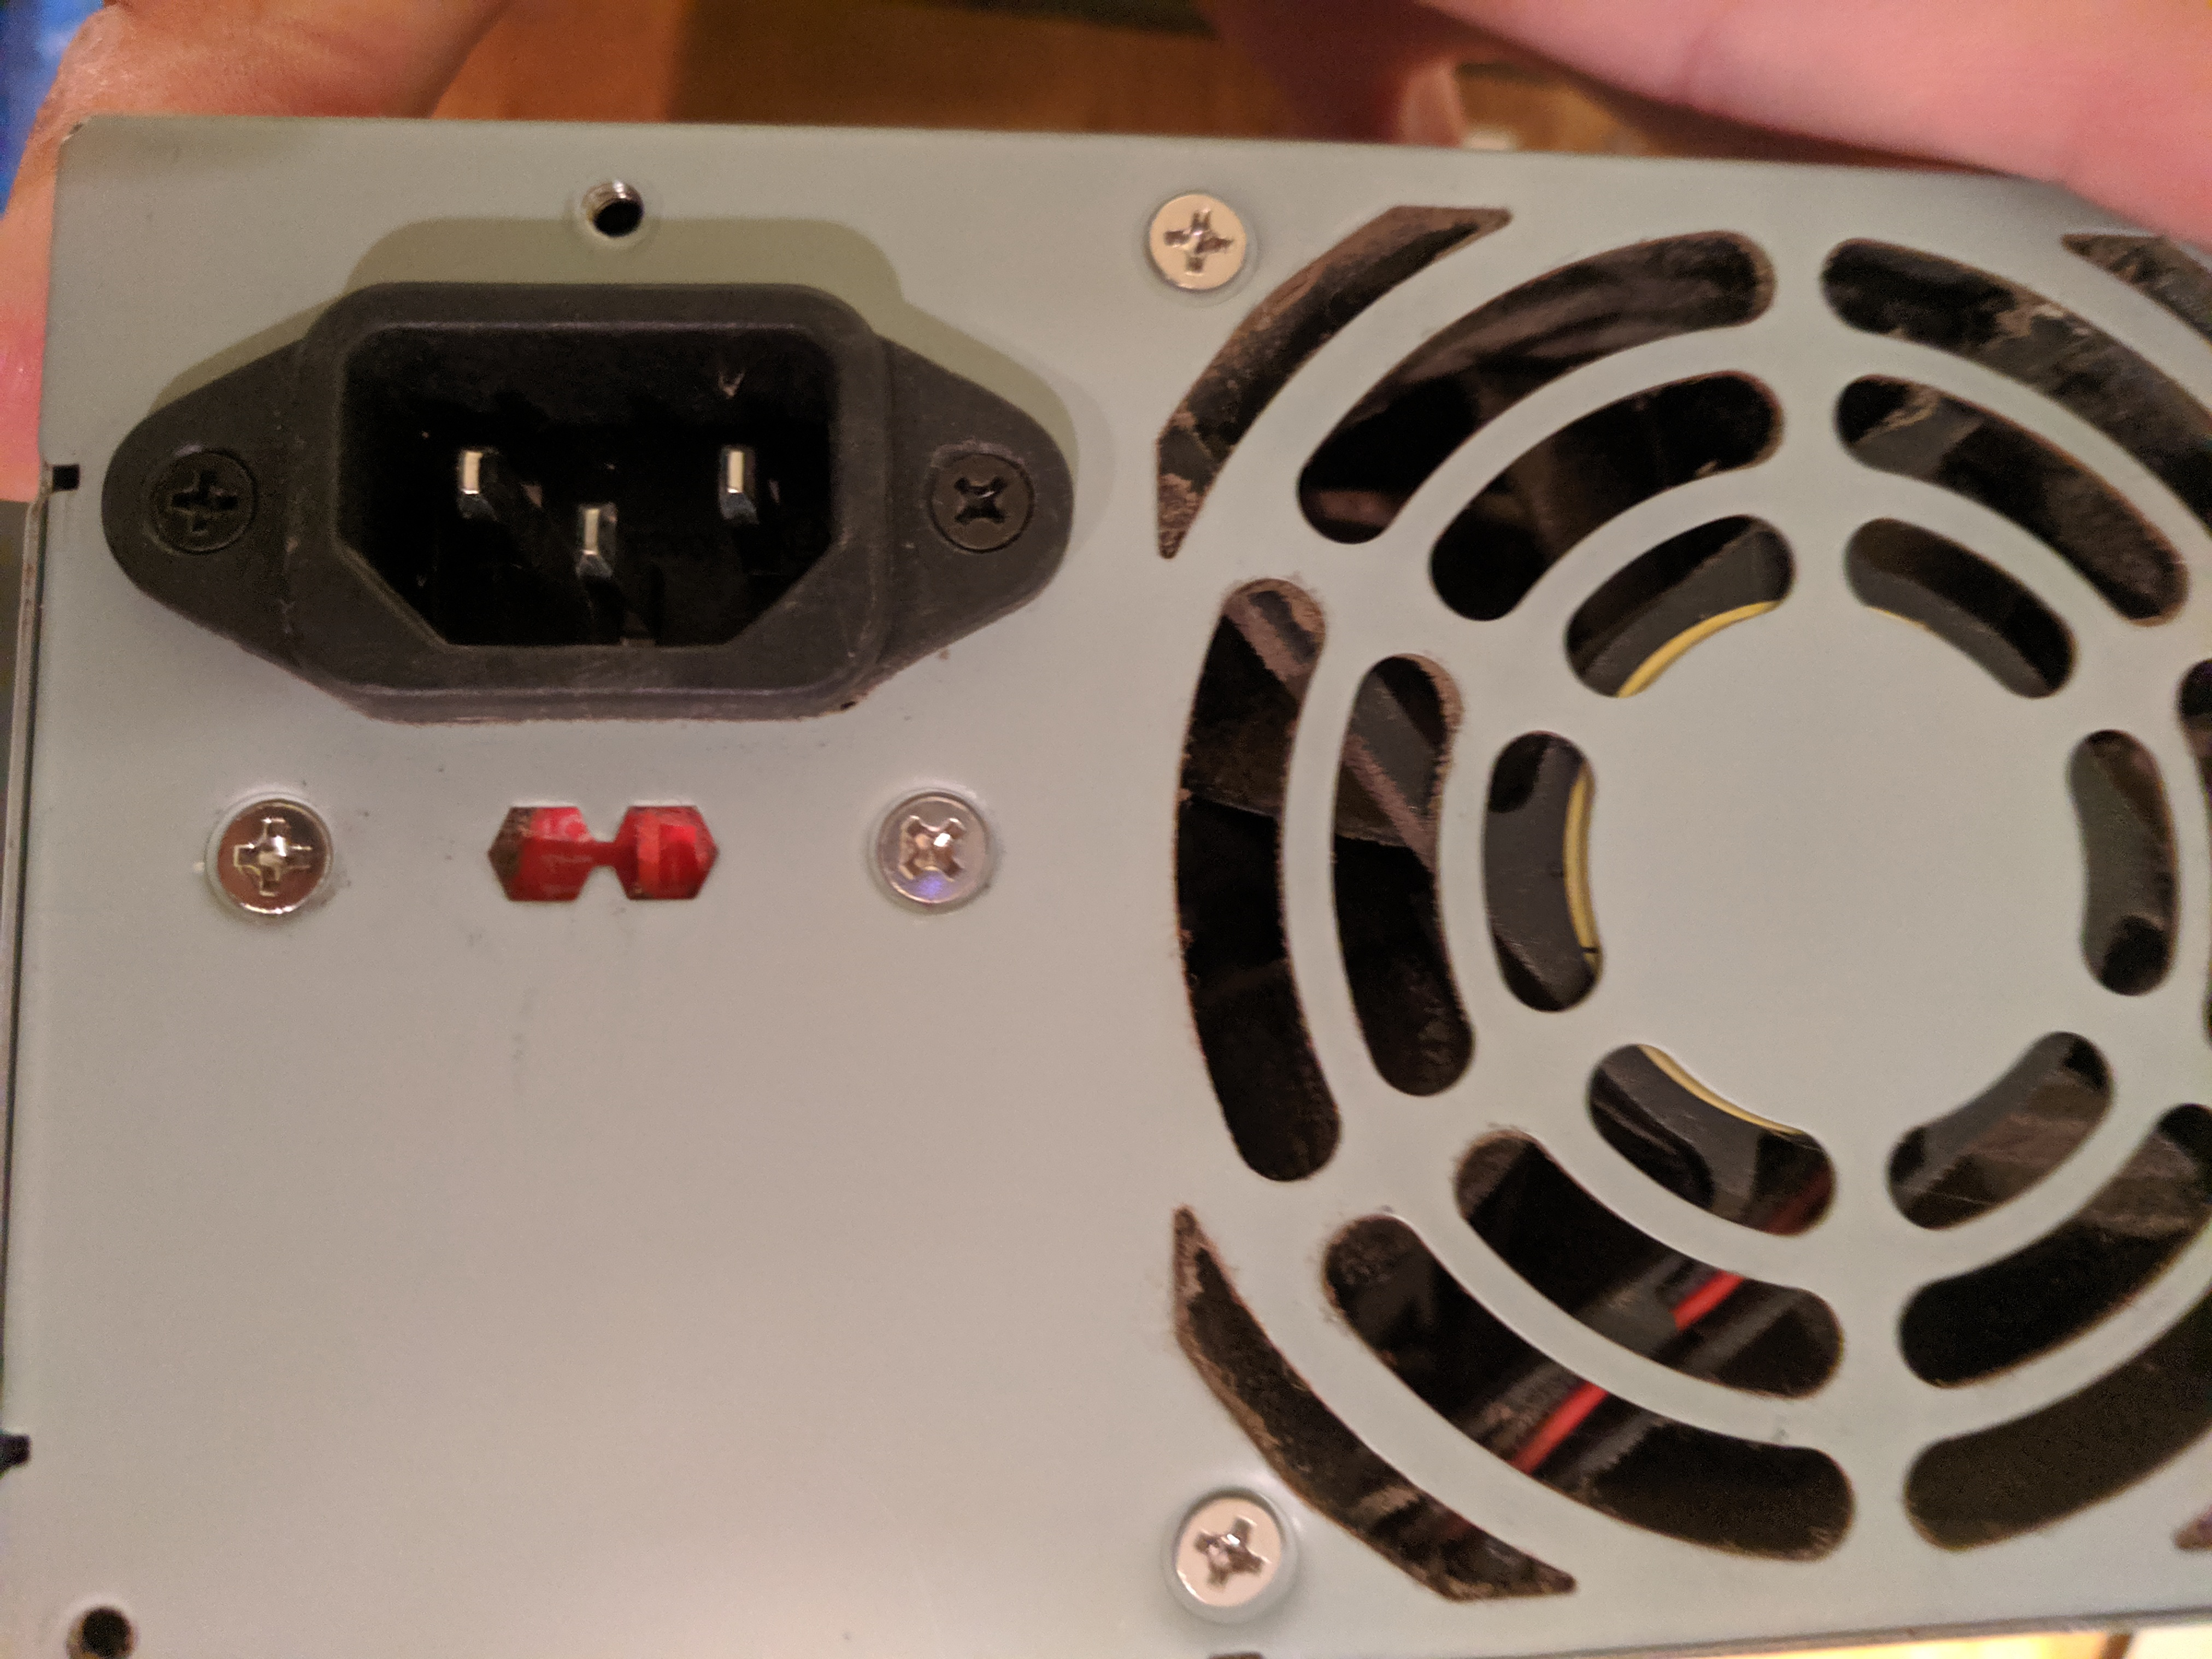cross_recessed_screw: (204, 796, 338, 918), (871, 788, 1001, 911), (136, 437, 263, 556), (1172, 1485, 1287, 1615), (923, 443, 1038, 556), (1141, 188, 1254, 291)
